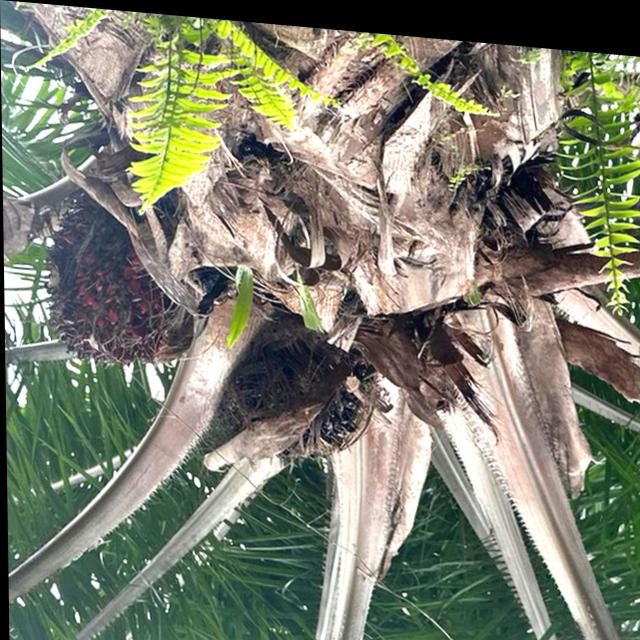unripe: (34, 185, 188, 372), (217, 313, 368, 452)
